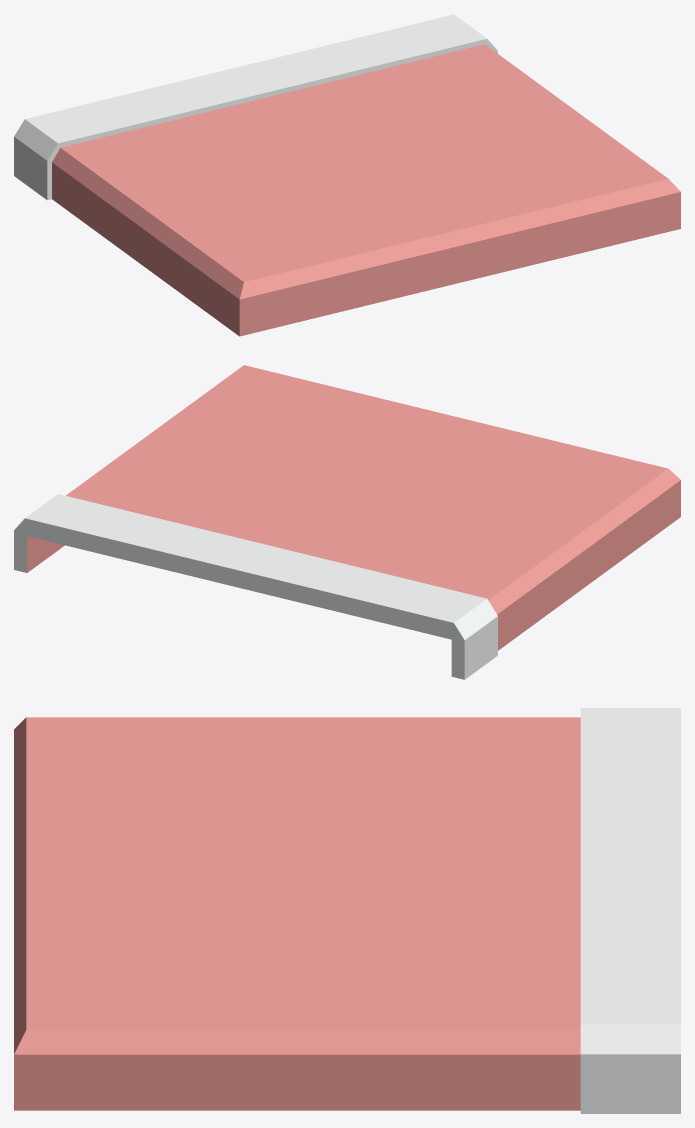
Rendered from Hazard_Blanket_Bed.glb.
3 renders of one model, top to bottom at view 1: azimuth 30°, elevation 25°; view 2: azimuth 150°, elevation 25°; view 3: azimuth 270°, elevation 25°, orthographic. The views are drawn at different scales.
Parts seen in each view (by area): view 1: Hazard_Blanket_Bed; view 2: Hazard_Blanket_Bed; view 3: Hazard_Blanket_Bed.
Boxes of the visible parts, left/top/right/bottom form: Hazard_Blanket_Bed: left=14, top=14, right=680, bottom=336; Hazard_Blanket_Bed: left=14, top=365, right=680, bottom=679; Hazard_Blanket_Bed: left=14, top=708, right=680, bottom=1113.
Bounding box in the file's own units: 0.956 × 0.11 × 0.8116.
